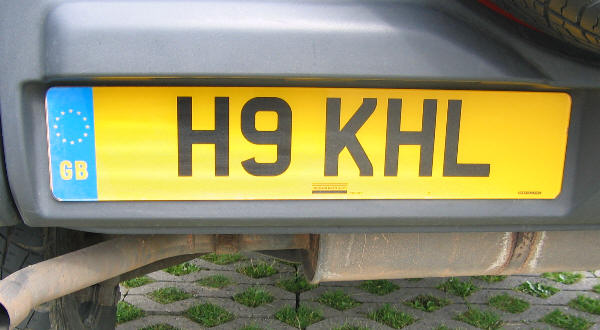license_plate: (44, 87, 572, 200)
